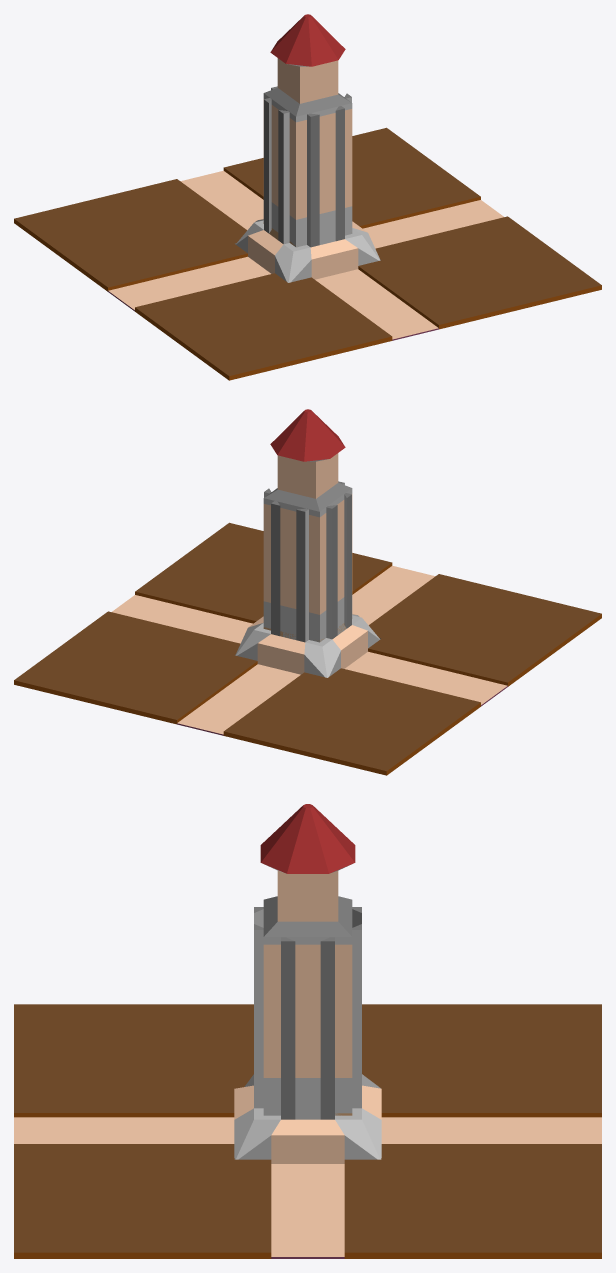
The model's file is FarmMill.fbx.
3 renders of one model, top to bottom at view 1: azimuth 30°, elevation 25°; view 2: azimuth 150°, elevation 25°; view 3: azimuth 270°, elevation 25°, orthographic. The views are drawn at different scales.
Parts seen in each view (by area): view 1: Body; view 2: Body; view 3: Body.
Part boxes in pixels (x1=…): Body: x1=14, y1=14, x2=601, y2=380; Body: x1=14, y1=409, x2=601, y2=775; Body: x1=14, y1=804, x2=601, y2=1258.
Size of the model in its own units: 2812 by 1946 by 2813.
